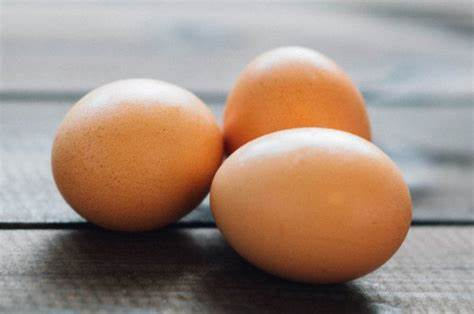Egg: (207, 126, 414, 289), (40, 71, 225, 234), (218, 43, 374, 186)
